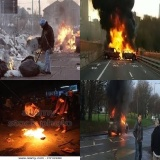fire: (109, 23, 137, 62), (55, 23, 78, 51), (107, 109, 128, 137), (21, 124, 50, 140), (5, 59, 16, 72), (26, 36, 36, 44)
